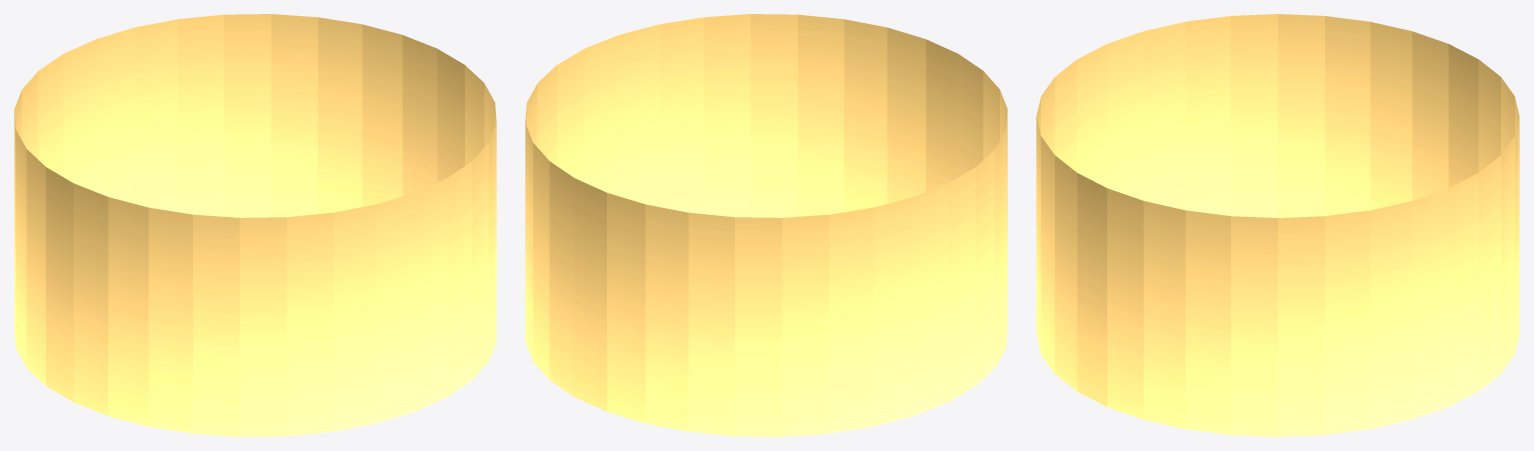
File: lb_beam_gold.glb
3 renders of one model, left to right at view 1: azimuth 30°, elevation 25°; view 2: azimuth 150°, elevation 25°; view 3: azimuth 270°, elevation 25°, orthographic.
Parts seen in each view (by area): view 1: lb_beam_gold; view 2: lb_beam_gold; view 3: lb_beam_gold.
Boxes of the visible parts, x1,y1,x2,y2 form: lb_beam_gold: (14,14,496,436); lb_beam_gold: (525,14,1007,436); lb_beam_gold: (1036,14,1519,436).
Bounding box in the file's own units: 2 × 1 × 2.
1 material, 1 textured.
